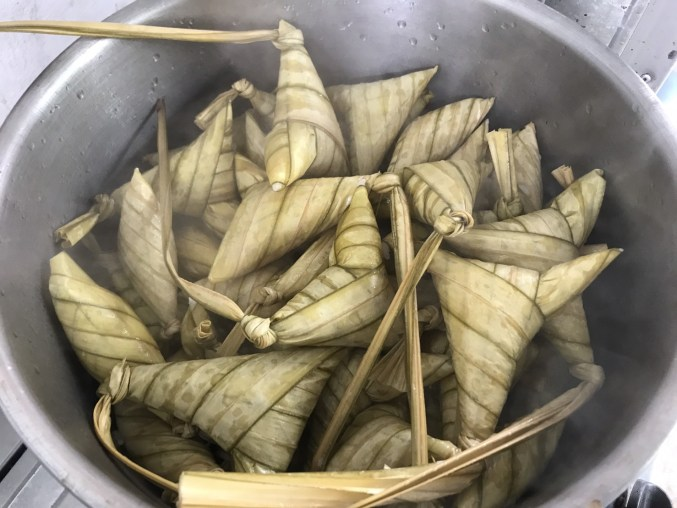kanomtom: (415, 232, 626, 463), (93, 335, 371, 481), (211, 144, 393, 293)
